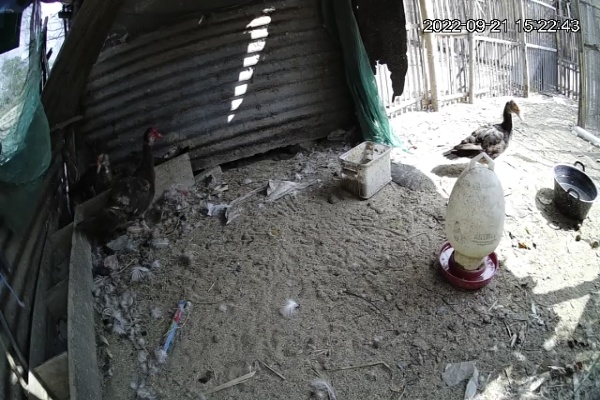Entog: (444, 98, 523, 176)
